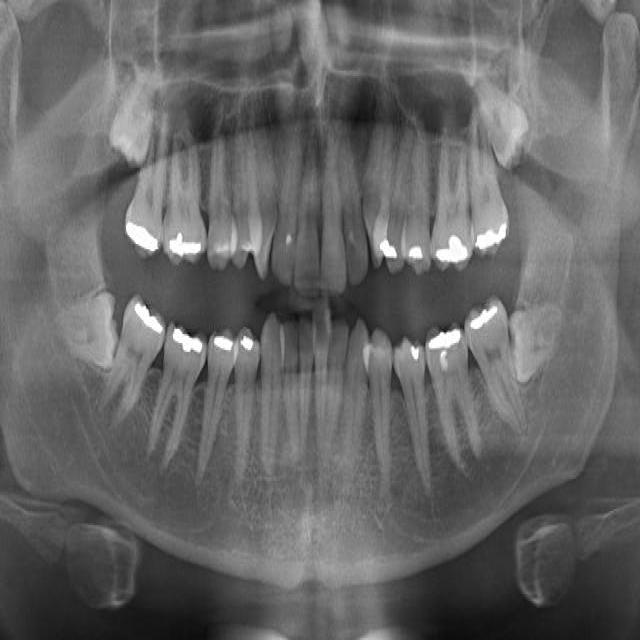dolgu: (162, 314, 206, 377), (470, 195, 513, 257), (428, 312, 468, 372), (118, 208, 165, 257), (126, 298, 169, 349), (430, 226, 472, 276), (469, 290, 504, 349), (230, 308, 259, 370), (208, 316, 240, 371), (163, 222, 202, 266), (398, 324, 425, 384), (400, 224, 430, 275), (376, 223, 408, 265)
